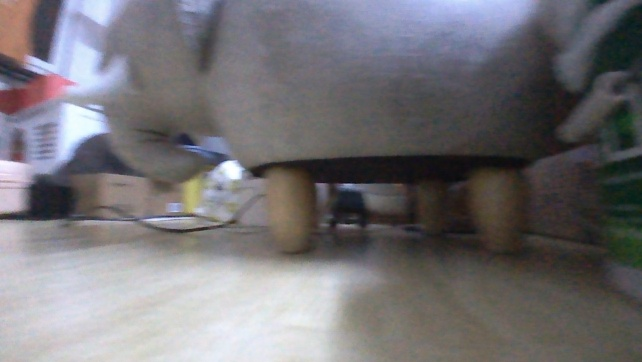wire: (68, 202, 252, 233)
